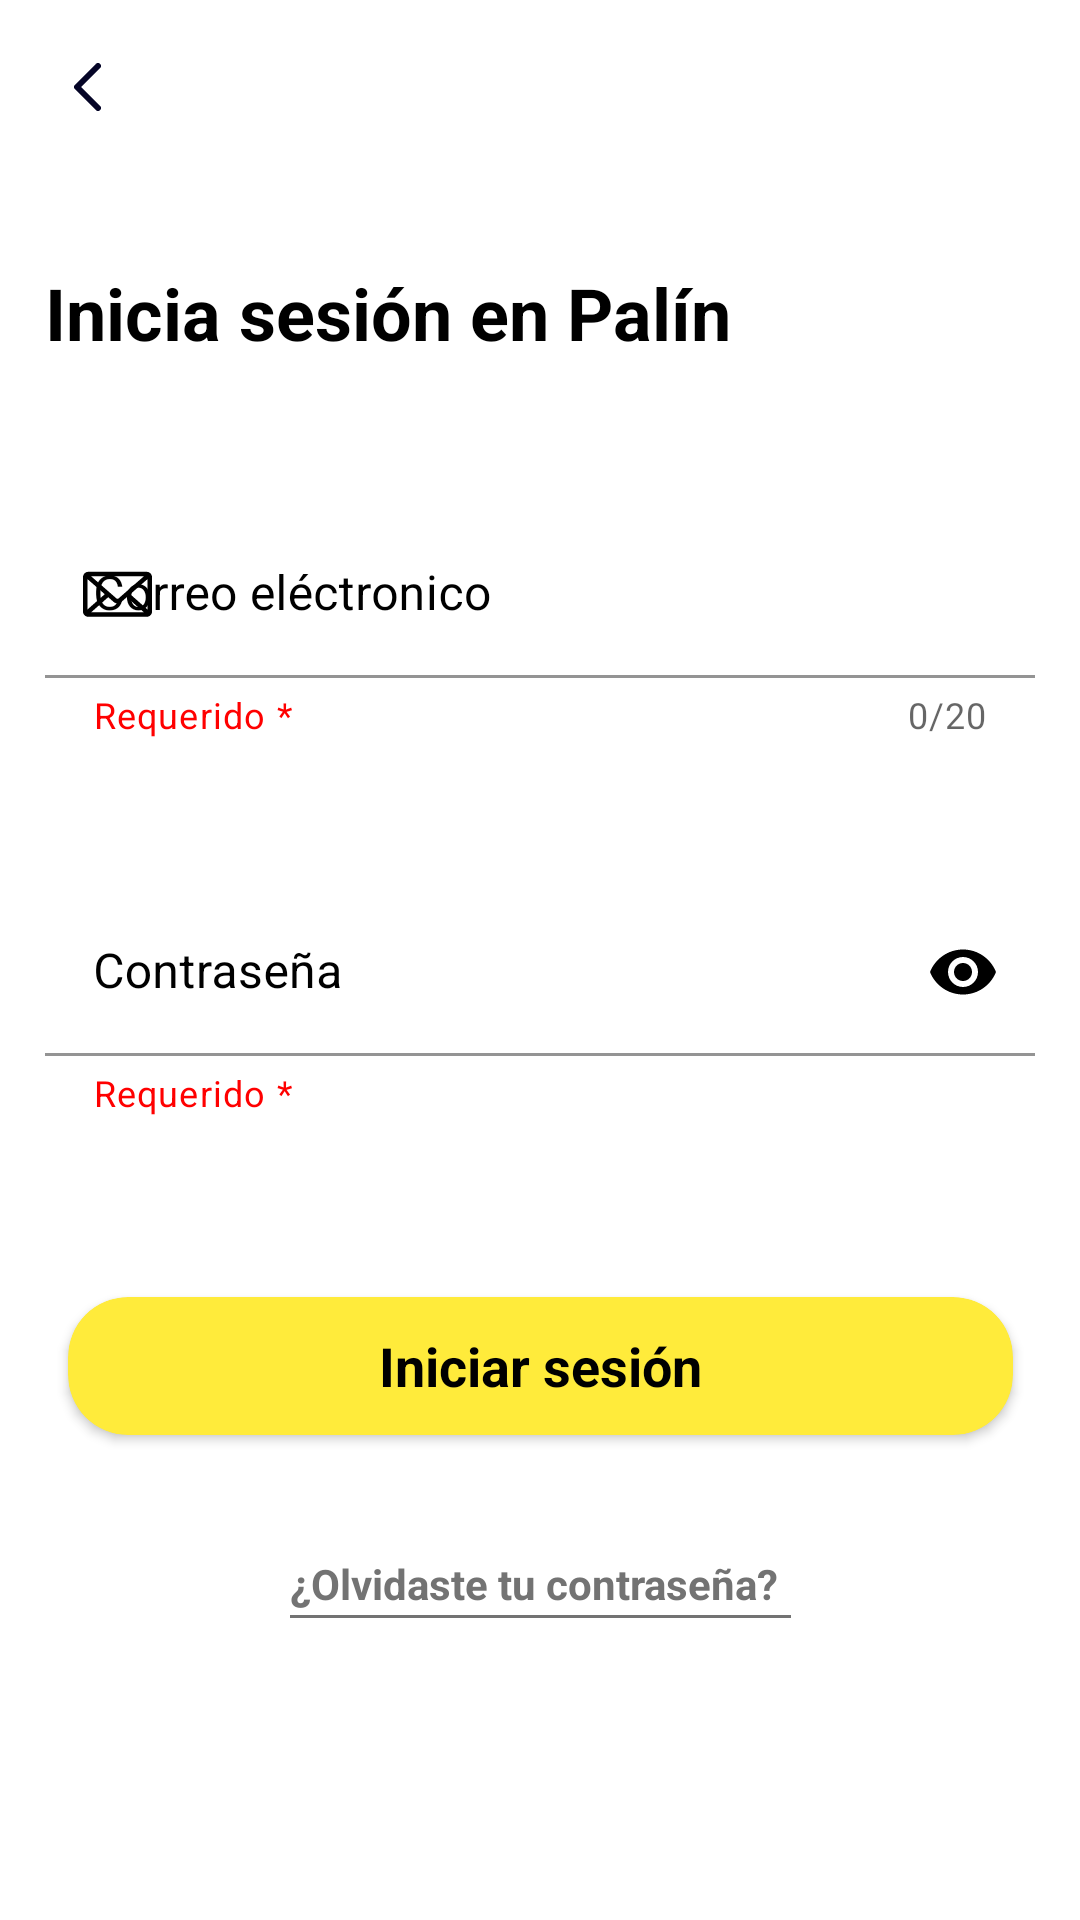

Named icons in this screenshot (1080w x 1920h) and their bounding boxes, (x1, y1, x2, y2):
Boton atrás: (74, 63, 101, 111)
